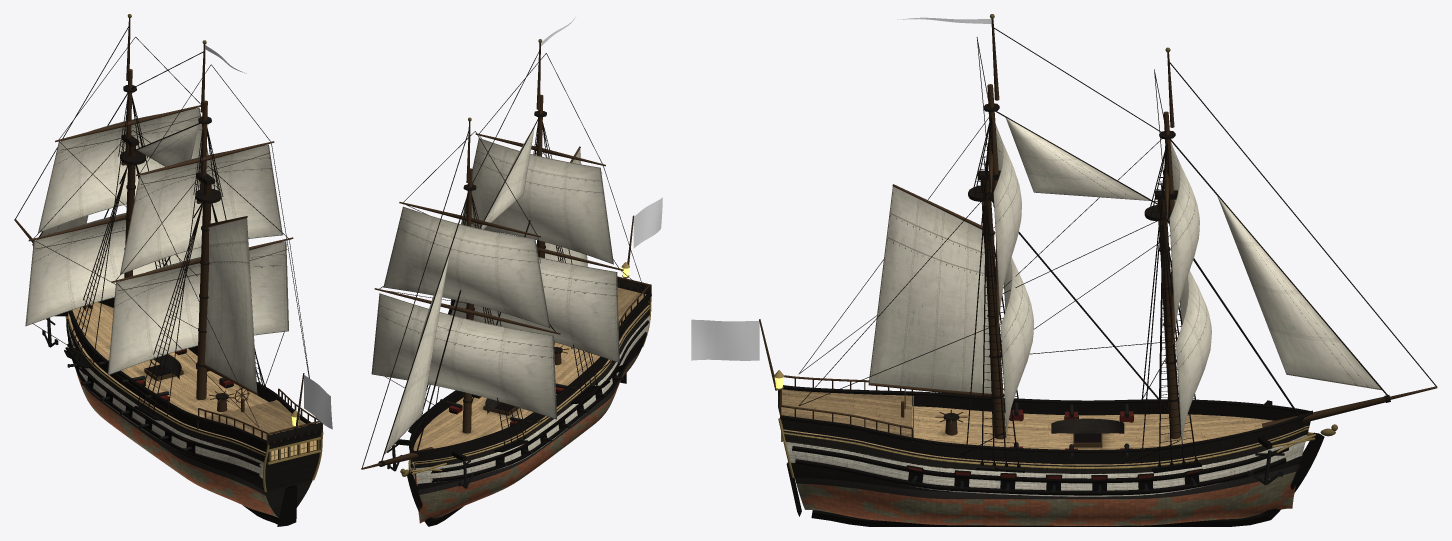
Rendered from schooner.gltf.
The picture shows the model from 3 angles, left to right: view 1: azimuth 30°, elevation 25°; view 2: azimuth 150°, elevation 25°; view 3: azimuth 270°, elevation 25°; orthographic projection. The views are drawn at different scales.
Visible parts, largest first — view 1: Hull, Sail_1_1, Sail_1_0_E, Sail_0_1, Sail_0_0_E, Sail_spanker, Sail_stay_1, Flag; view 2: Hull, Sail_0_0_E, Sail_0_1, Sail_1_1, Sail_1_0_E, Sail_jib_0, Sail_stay_1, Flag, Sail_spanker; view 3: Hull, Sail_spanker, Sail_jib_0, Sail_stay_1, Sail_0_0_E, Sail_1_0_E, Sail_0_1, Sail_1_1, Flag.
Part boxes in pixels (bbox=[...]): Hull: bbox=[14, 14, 323, 526]; Sail_1_1: bbox=[120, 144, 282, 274]; Sail_1_0_E: bbox=[108, 241, 288, 375]; Sail_0_1: bbox=[38, 108, 208, 232]; Sail_0_0_E: bbox=[25, 213, 201, 326]; Sail_spanker: bbox=[205, 217, 257, 393]; Sail_stay_1: bbox=[137, 124, 198, 166]; Flag: bbox=[304, 375, 332, 429]; Hull: bbox=[361, 39, 651, 526]; Sail_0_0_E: bbox=[371, 293, 556, 419]; Sail_0_1: bbox=[383, 206, 549, 327]; Sail_1_1: bbox=[461, 138, 613, 264]; Sail_1_0_E: bbox=[450, 257, 619, 362]; Sail_jib_0: bbox=[384, 254, 449, 454]; Sail_stay_1: bbox=[480, 127, 534, 229]; Flag: bbox=[633, 197, 662, 248]; Sail_spanker: bbox=[545, 149, 587, 266]; Hull: bbox=[759, 14, 1437, 526]; Sail_spanker: bbox=[868, 186, 994, 393]; Sail_jib_0: bbox=[1217, 196, 1381, 390]; Sail_stay_1: bbox=[1006, 118, 1150, 200]; Sail_0_0_E: bbox=[1176, 271, 1211, 446]; Sail_1_0_E: bbox=[1000, 257, 1033, 437]; Sail_0_1: bbox=[1169, 141, 1199, 331]; Sail_1_1: bbox=[993, 124, 1021, 313]; Flag: bbox=[691, 319, 759, 360].
Size of the model in its own units: 16.44 by 34.85 by 45.94.
Materials: 18 (4 with a texture image).
